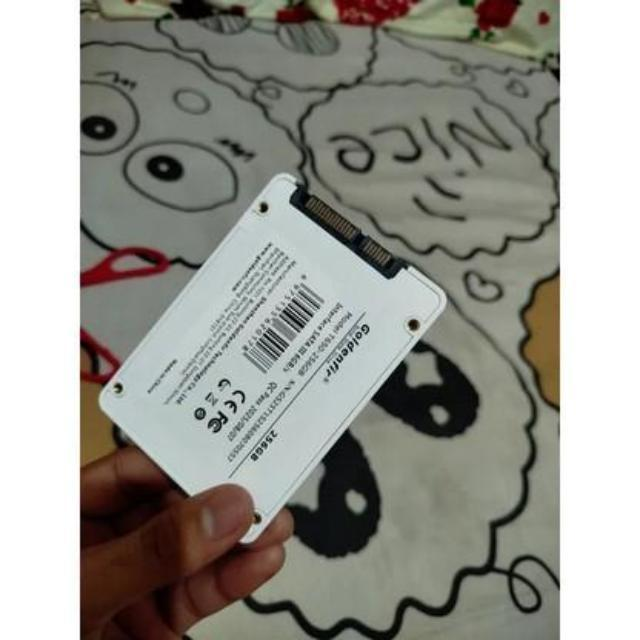DISK: (90, 170, 455, 552)
